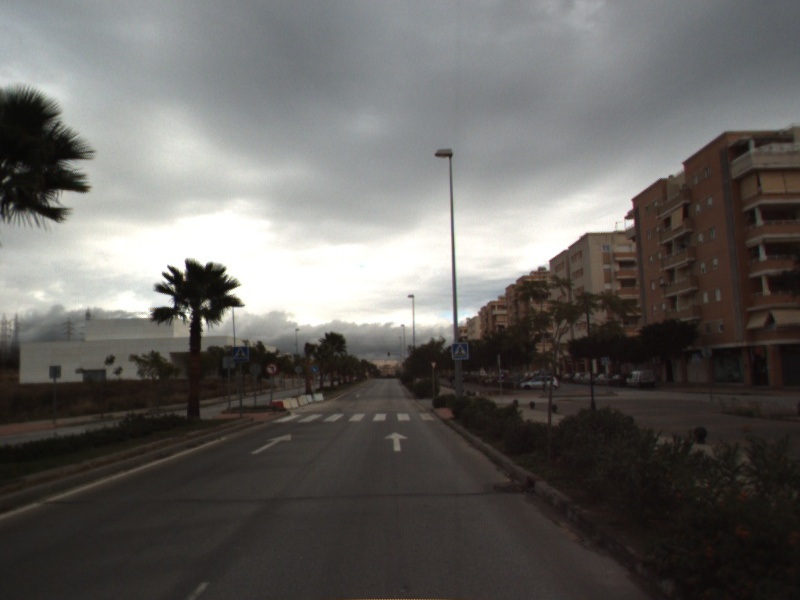STRAIGHT: (249, 432, 294, 456), (382, 430, 410, 453)
